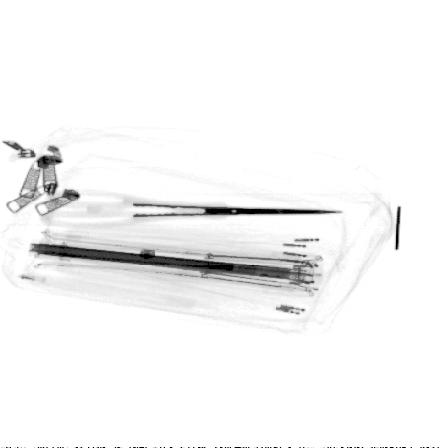Scissors: (41, 187, 347, 228)
